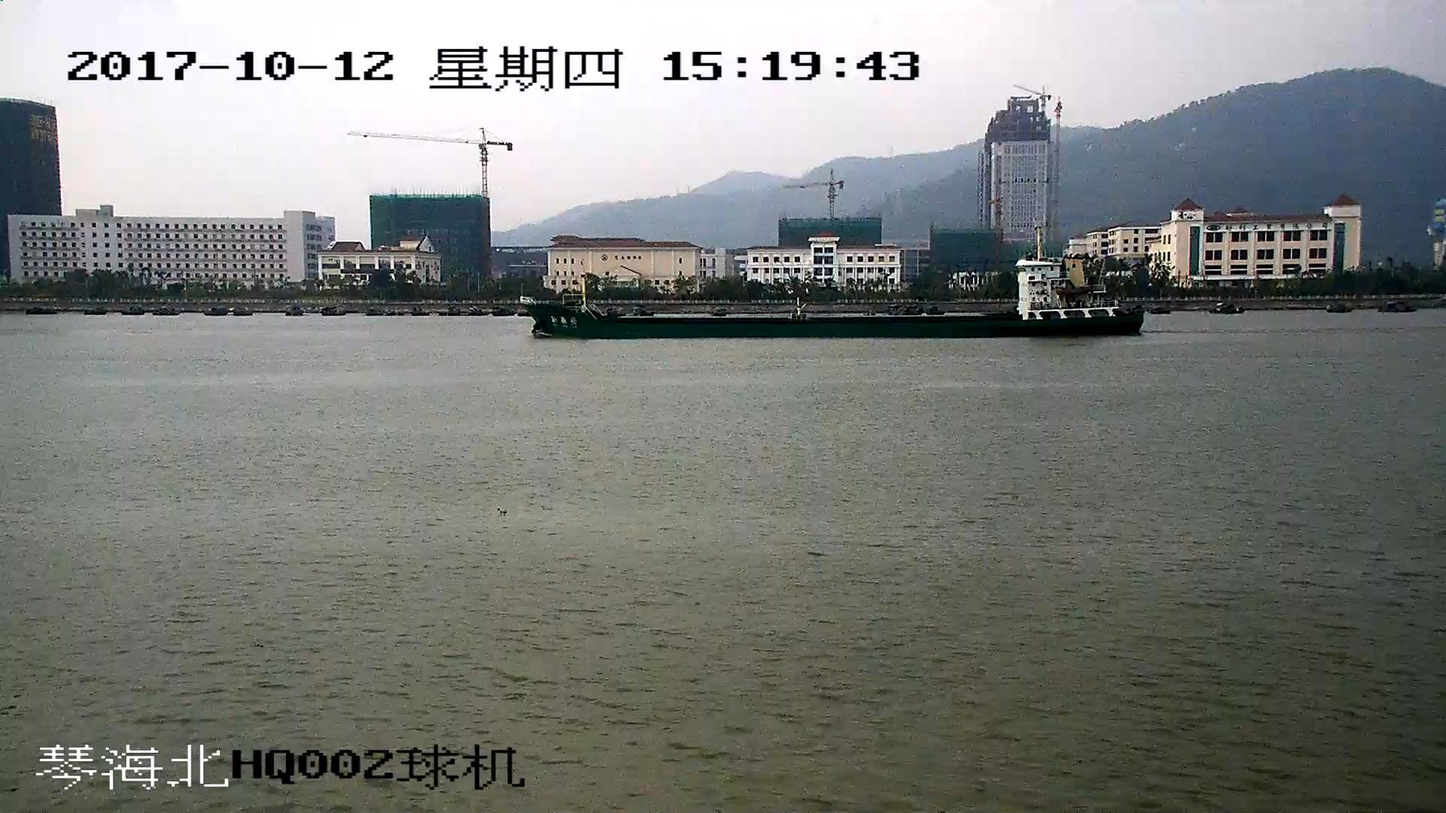general cargo ship: (521, 245, 1143, 338)
